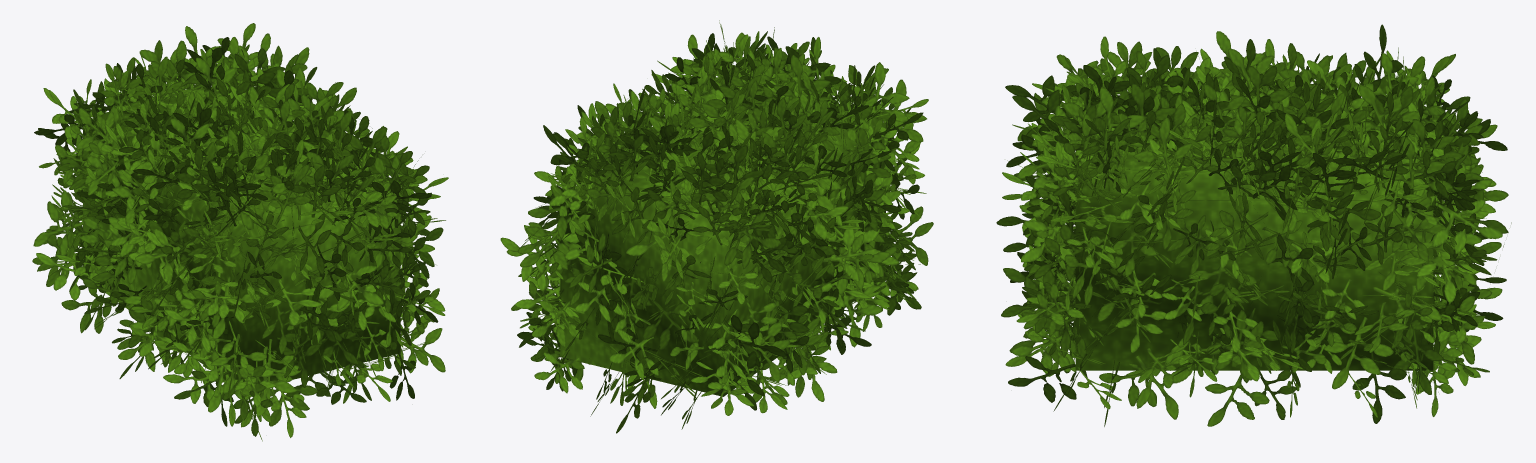
Rendered from Bush 1.fbx.
3 renders of one model, left to right at view 1: azimuth 30°, elevation 25°; view 2: azimuth 150°, elevation 25°; view 3: azimuth 270°, elevation 25°, orthographic. The views are drawn at different scales.
Parts seen in each view (by area): view 1: Cube; view 2: Cube; view 3: Cube.
Part boxes in pixels (<box>): Cube: <box>32,23,448,441</box>; Cube: <box>500,20,933,433</box>; Cube: <box>996,24,1511,426</box>.
Bounding box in the file's own units: 372 × 357 × 516.
